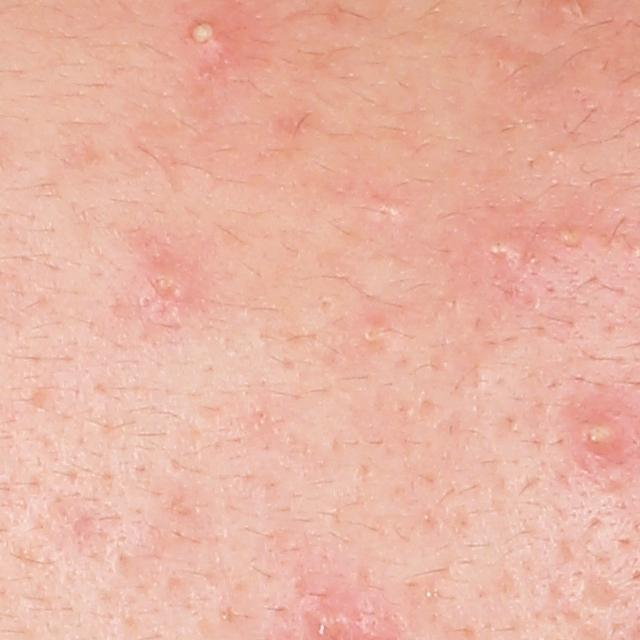atrophic_scar: (577, 570, 630, 612)
pustule: (180, 8, 238, 72), (136, 260, 196, 318), (574, 404, 636, 455), (483, 232, 528, 267), (553, 217, 592, 257)
